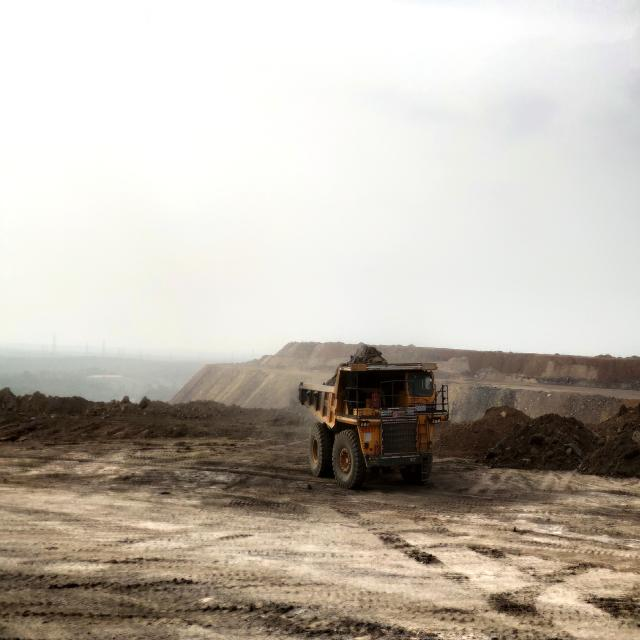dump_truck: (299, 360, 449, 488)
